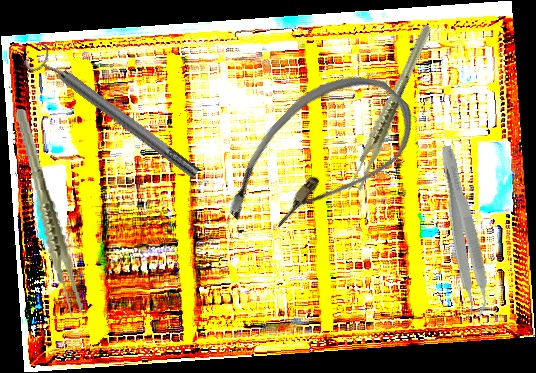Cannula: (208, 47, 430, 270)
Fixation Ring: (21, 38, 206, 189)
Tissue Forceps: (320, 22, 462, 197), (14, 103, 84, 322), (428, 143, 495, 322)
